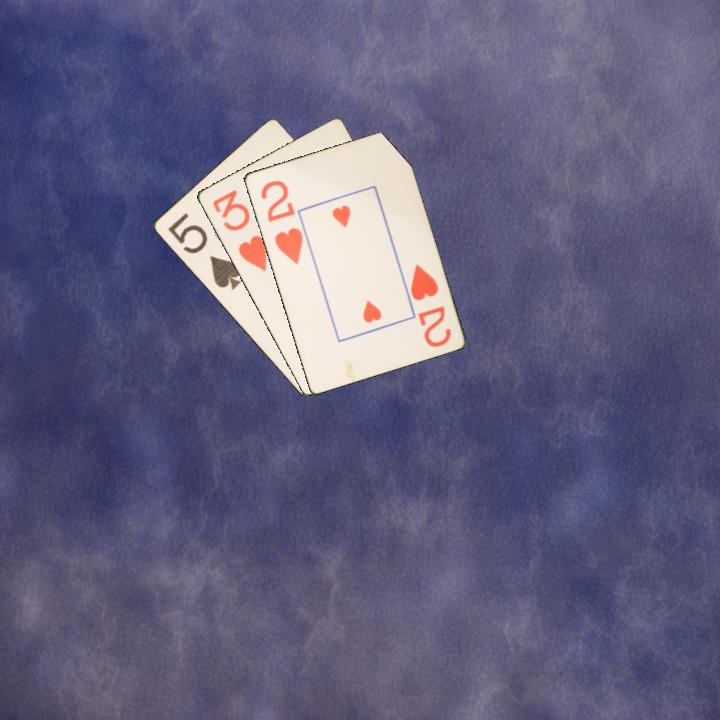2h: (257, 176, 306, 267), (406, 260, 454, 350)
3h: (208, 186, 269, 274)
5s: (164, 209, 244, 293)
